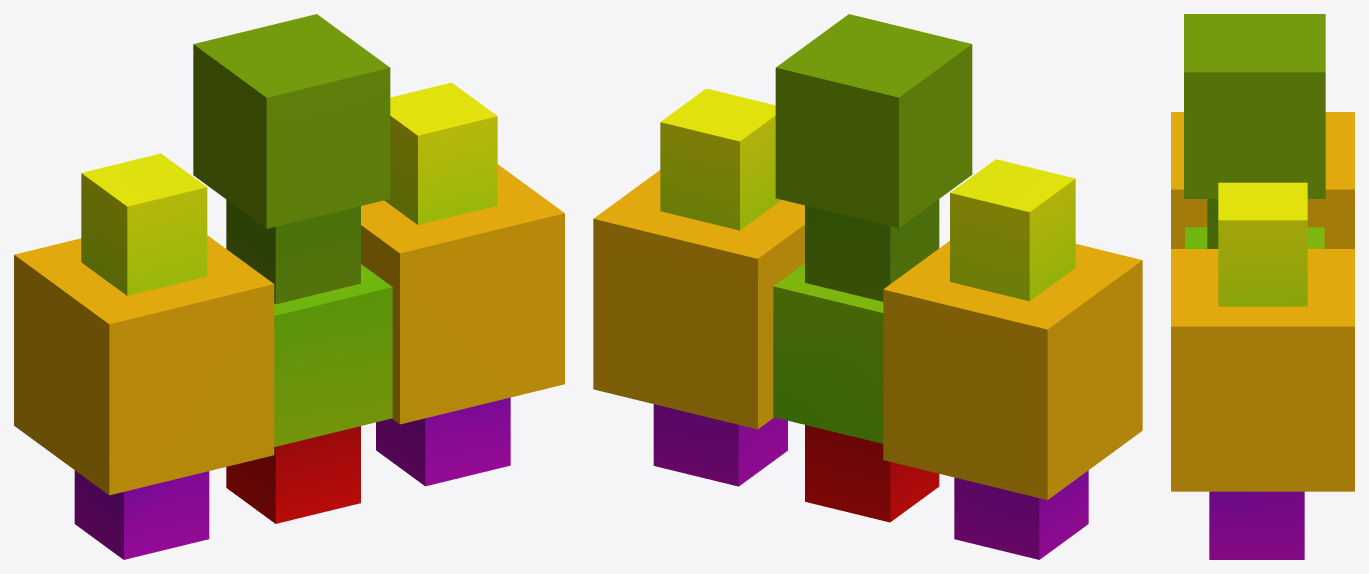
The picture shows the model from 3 angles, left to right: view 1: azimuth 30°, elevation 25°; view 2: azimuth 150°, elevation 25°; view 3: azimuth 270°, elevation 25°; orthographic projection. The views are drawn at different scales.
Visible parts, largest first — view 1: side_block, side_block.003, crown_cube, middle_block, upper_cube, upper_cube.003, upright_body, center_foot, outer_foot, outer_foot.003; view 2: side_block, side_block.003, crown_cube, middle_block, upper_cube, upper_cube.003, upright_body, center_foot, outer_foot, outer_foot.003; view 3: side_block.003, crown_cube, upper_cube.003, side_block, outer_foot.003, middle_block, upright_body.
Boxes of the visible parts, x1=… form: side_block: x1=14, y1=235, x2=274, y2=495; side_block.003: x1=361, y1=164, x2=564, y2=424; crown_cube: x1=193, y1=14, x2=390, y2=228; middle_block: x1=274, y1=264, x2=392, y2=446; upper_cube: x1=81, y1=153, x2=207, y2=295; upper_cube.003: x1=384, y1=82, x2=497, y2=224; upright_body: x1=226, y1=199, x2=360, y2=304; center_foot: x1=226, y1=426, x2=360, y2=523; outer_foot: x1=74, y1=470, x2=209, y2=559; outer_foot.003: x1=376, y1=397, x2=510, y2=486; side_block: x1=883, y1=241, x2=1142, y2=499; side_block.003: x1=593, y1=170, x2=804, y2=429; crown_cube: x1=775, y1=14, x2=972, y2=228; middle_block: x1=773, y1=263, x2=883, y2=443; upper_cube: x1=950, y1=159, x2=1075, y2=301; upper_cube.003: x1=660, y1=88, x2=781, y2=230; upright_body: x1=805, y1=199, x2=939, y2=301; center_foot: x1=805, y1=425, x2=939, y2=522; outer_foot: x1=954, y1=470, x2=1088, y2=559; outer_foot.003: x1=653, y1=404, x2=787, y2=486; side_block.003: x1=1171, y1=249, x2=1354, y2=491; crown_cube: x1=1184, y1=14, x2=1325, y2=198; upper_cube.003: x1=1218, y1=182, x2=1307, y2=306; side_block: x1=1171, y1=112, x2=1354, y2=248; outer_foot.003: x1=1209, y1=491, x2=1304, y2=559; middle_block: x1=1185, y1=227, x2=1324, y2=248; upright_body: x1=1207, y1=199, x2=1218, y2=248.
Size of the model in its own units: 0.2508 by 0.2315 by 0.0908.
